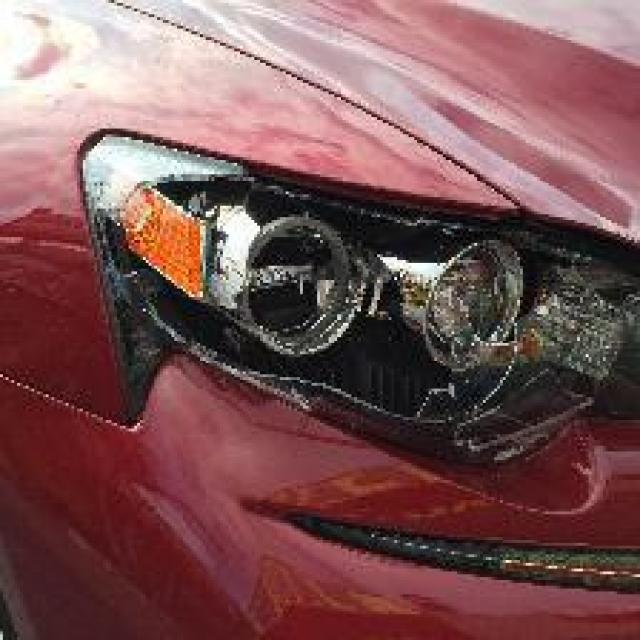damaged: (112, 166, 638, 528)
